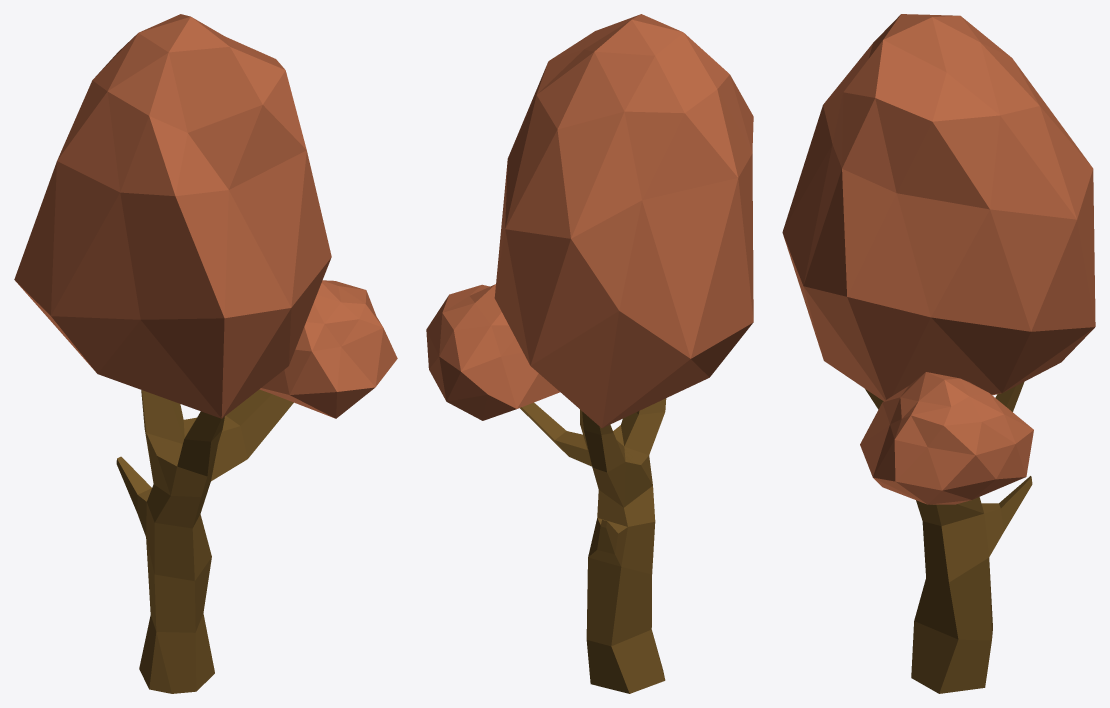
File: co_Tree05_B.fbx
The picture shows the model from 3 angles, left to right: view 1: azimuth 30°, elevation 25°; view 2: azimuth 150°, elevation 25°; view 3: azimuth 270°, elevation 25°; orthographic projection. The views are drawn at different scales.
Visible parts, largest first — view 1: Tree05_B_LOD0; view 2: Tree05_B_LOD0; view 3: Tree05_B_LOD0.
Boxes of the visible parts, x1,y1,x2,y2 form: Tree05_B_LOD0: [14, 14, 397, 693]; Tree05_B_LOD0: [426, 14, 753, 693]; Tree05_B_LOD0: [782, 14, 1095, 693].
Size of what is drawn, in the model's own units: 11.84 by 22.8 by 9.75.
